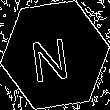N_N: (33, 27, 77, 83)
